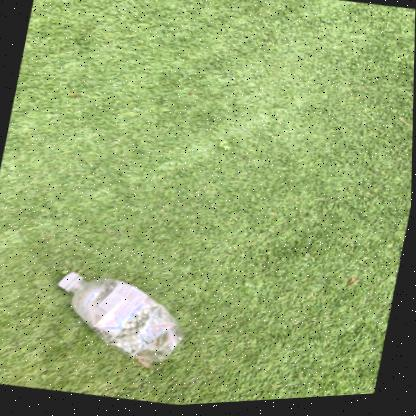Plastic: (58, 274, 185, 371)
